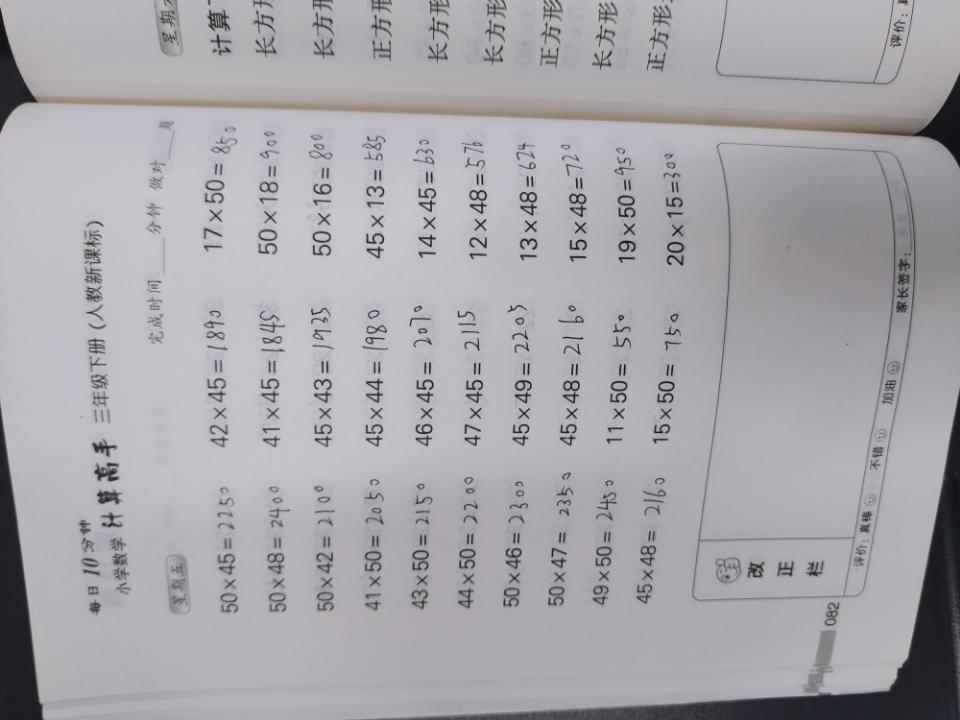equation: (399, 296, 442, 457), (548, 290, 591, 451), (501, 294, 544, 455), (450, 296, 493, 457), (396, 458, 439, 619), (352, 466, 395, 627), (301, 471, 344, 632), (256, 464, 299, 625), (631, 459, 674, 620), (586, 461, 629, 622), (538, 465, 581, 626), (496, 459, 539, 620), (444, 459, 487, 620), (452, 120, 495, 281), (401, 110, 444, 271), (354, 116, 397, 277), (300, 115, 343, 276), (651, 125, 694, 286), (605, 122, 648, 283), (553, 117, 596, 278), (506, 117, 549, 278), (642, 289, 685, 450), (591, 289, 634, 450), (203, 478, 247, 624), (248, 119, 292, 265), (194, 117, 238, 263), (188, 305, 232, 451), (356, 304, 400, 450), (297, 305, 341, 451), (246, 301, 290, 447)
